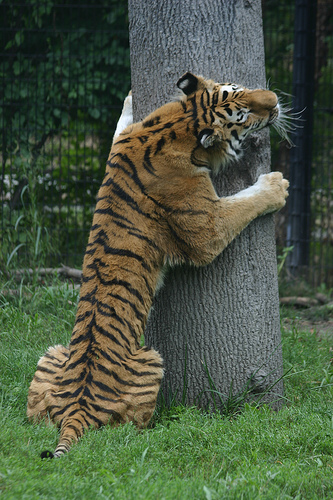Tigre: (47, 71, 294, 434)
